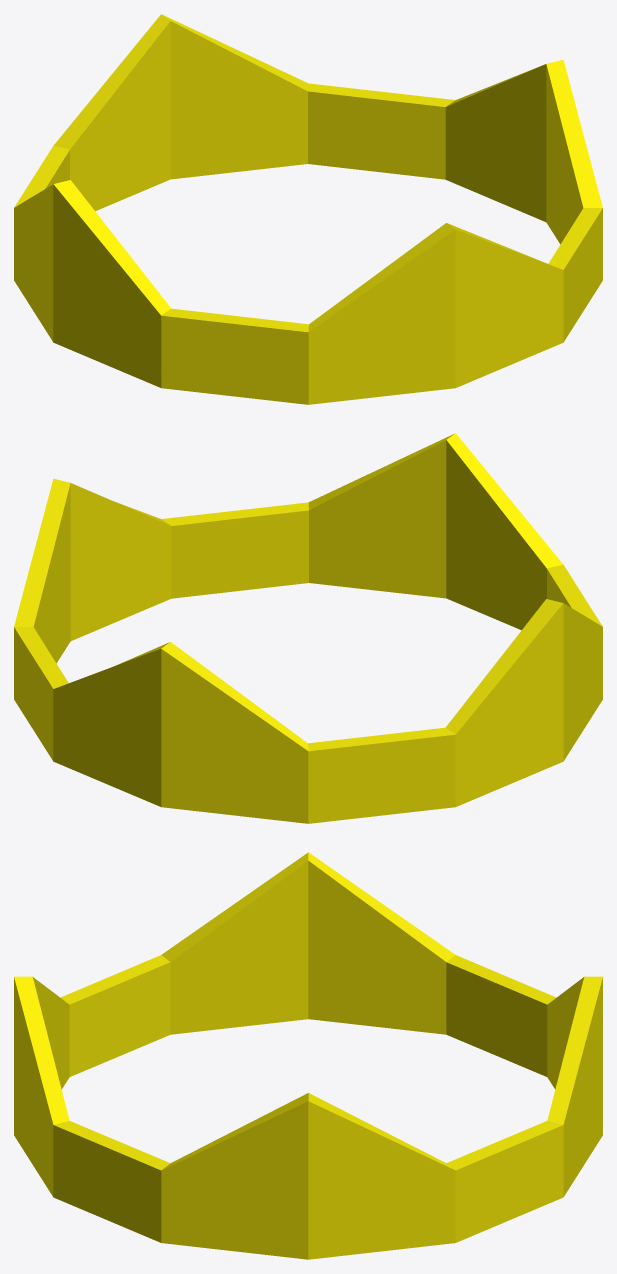
The model's file is crown-yellow.glb.
3 views of the same model, one above another, from view 1: azimuth 30°, elevation 25°; view 2: azimuth 150°, elevation 25°; view 3: azimuth 270°, elevation 25° (orthographic).
Visible parts, largest first — view 1: pTorus1; view 2: pTorus1; view 3: pTorus1.
Boxes of the visible parts, box(x1,y1,x2,y2) form: pTorus1: box(14, 14, 602, 404); pTorus1: box(14, 433, 602, 823); pTorus1: box(14, 852, 602, 1259).
Size of the model in its own units: 2.25 by 0.6683 by 2.25.
1 material, 1 textured.
